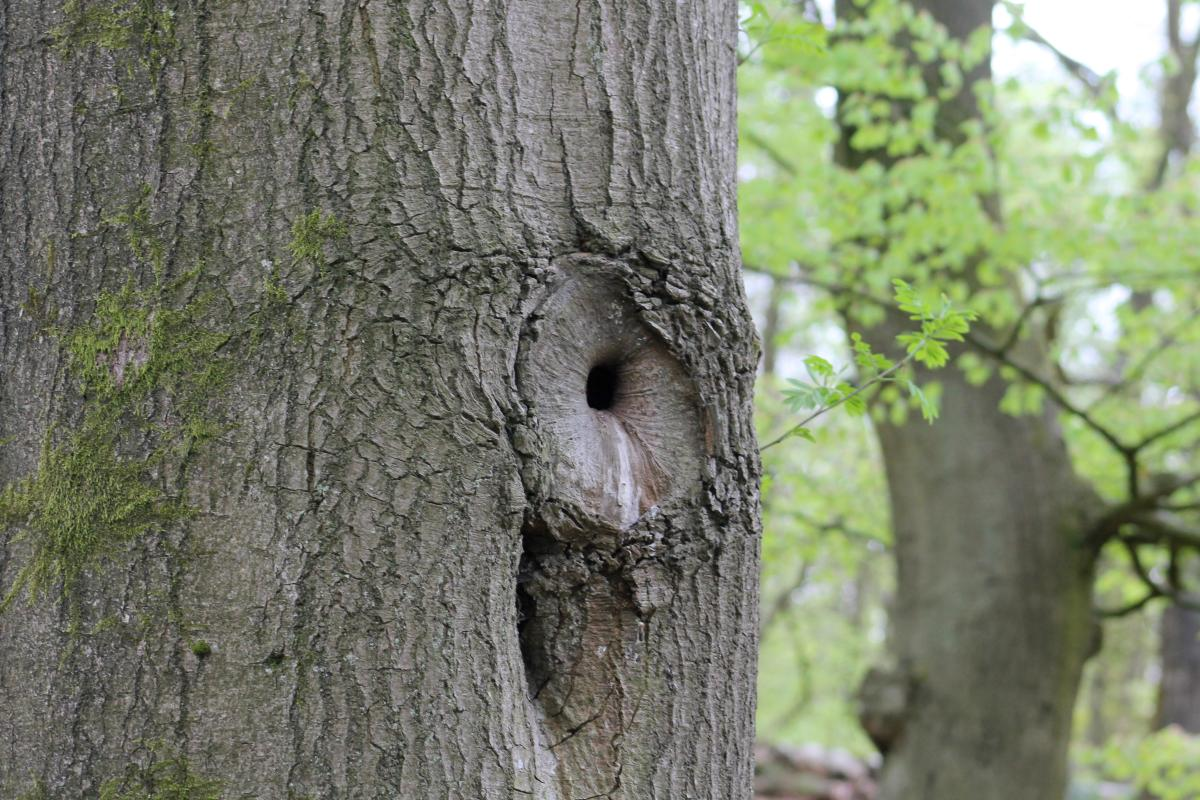hollow: (546, 289, 694, 494)
